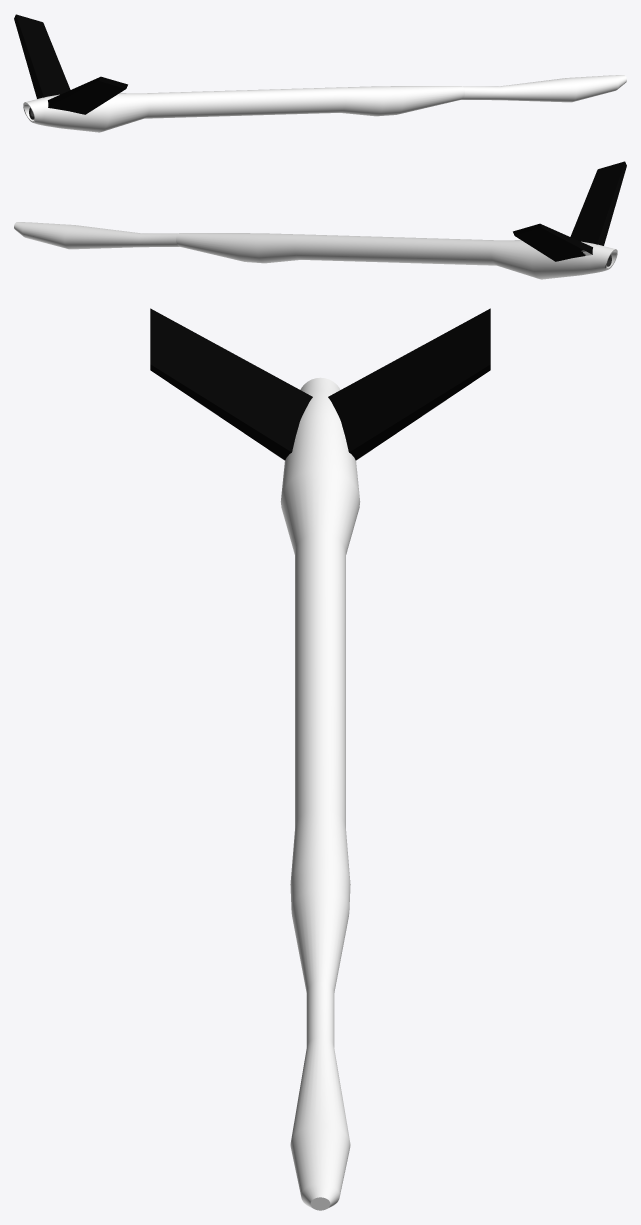
3 views of the same model, one above another, from view 1: azimuth 30°, elevation 25°; view 2: azimuth 150°, elevation 25°; view 3: azimuth 270°, elevation 25° (orthographic). The views are drawn at different scales.
Visible parts, largest first — view 1: boom, boom.001; view 2: boom, boom.001; view 3: boom, boom.001.
Boxes of the visible parts, left/top/right/bottom form: boom: left=14, top=14, right=464, bottom=132; boom.001: left=461, top=75, right=626, bottom=102; boom: left=176, top=161, right=626, bottom=279; boom.001: left=14, top=222, right=179, bottom=249; boom: left=150, top=308, right=490, bottom=992; boom.001: left=290, top=982, right=350, bottom=1210.
Size of the model in its own units: 13.08 by 3.76 by 3.22.
Materials: 4 (1 with a texture image).
